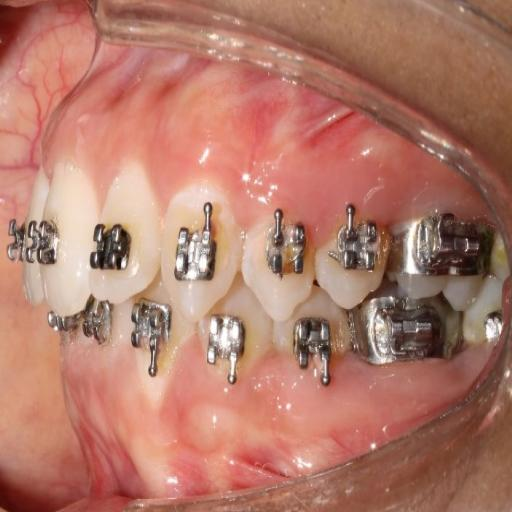correct_brace: (243, 213, 319, 325), (172, 211, 215, 288), (87, 216, 134, 282), (26, 202, 63, 274)
incorrect_brace: (89, 169, 161, 307), (268, 219, 312, 280)
